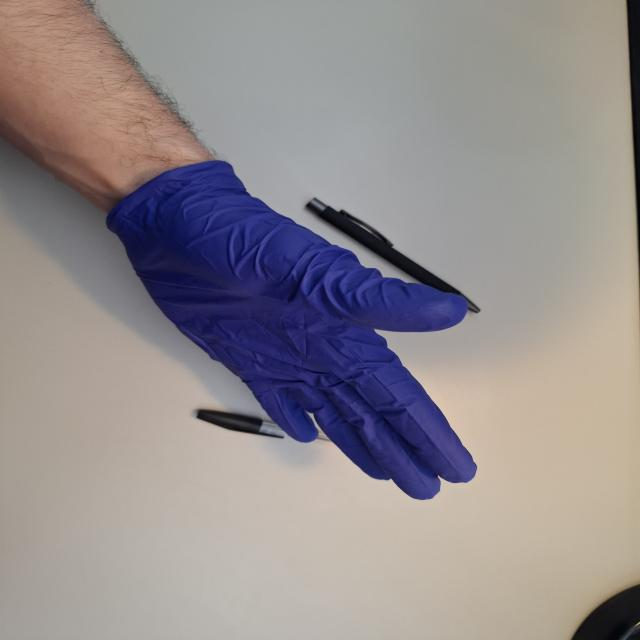glove_on: (103, 158, 482, 502)
